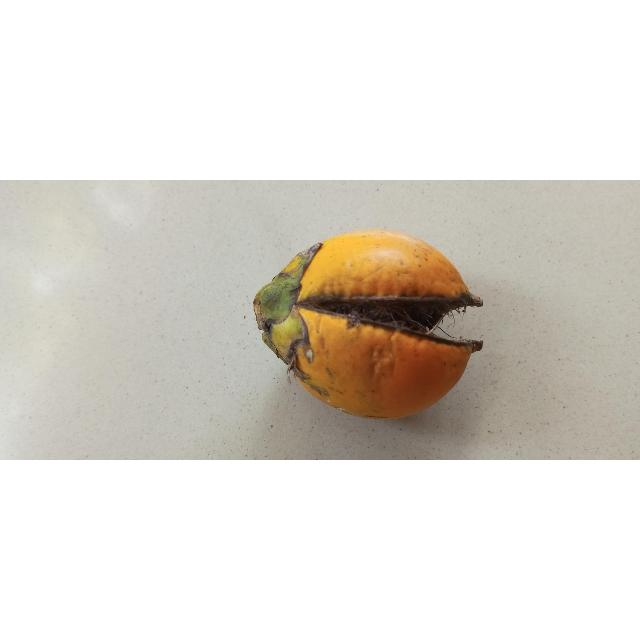damaged: (251, 230, 484, 421)
